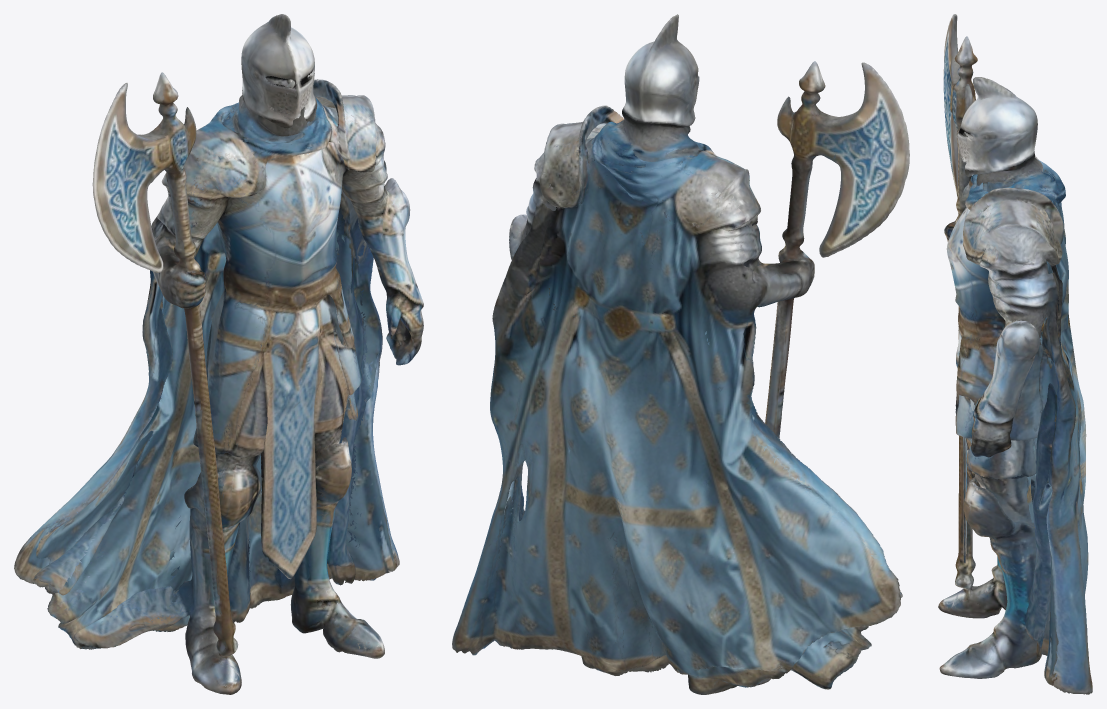
The model's file is fantasy_knight.glb.
3 views of the same model, side by side, from view 1: azimuth 30°, elevation 25°; view 2: azimuth 150°, elevation 25°; view 3: azimuth 270°, elevation 25° (orthographic). The views are drawn at different scales.
Parts seen in each view (by area): view 1: Object_4, Object_5, Object_7, Object_8, Object_6; view 2: Object_6, Object_7, Object_4, Object_8, Object_5; view 3: Object_4, Object_6, Object_5, Object_7, Object_8.
Boxes of the visible parts, <box> form: Object_4: <box>92,14,423,578</box>; Object_5: <box>18,186,423,694</box>; Object_7: <box>14,274,399,643</box>; Object_8: <box>14,190,382,649</box>; Object_6: <box>33,26,399,647</box>; Object_6: <box>452,53,902,689</box>; Object_7: <box>452,387,900,689</box>; Object_4: <box>509,14,909,271</box>; Object_8: <box>490,204,900,694</box>; Object_5: <box>581,194,900,694</box>; Object_4: <box>943,14,1063,562</box>; Object_6: <box>1015,100,1088,694</box>; Object_5: <box>938,137,1037,678</box>; Object_7: <box>1017,444,1092,694</box>; Object_8: <box>1017,202,1085,564</box>.
Size of the model in its own units: 1.34 by 2 by 0.493.
1 material, 1 textured.
